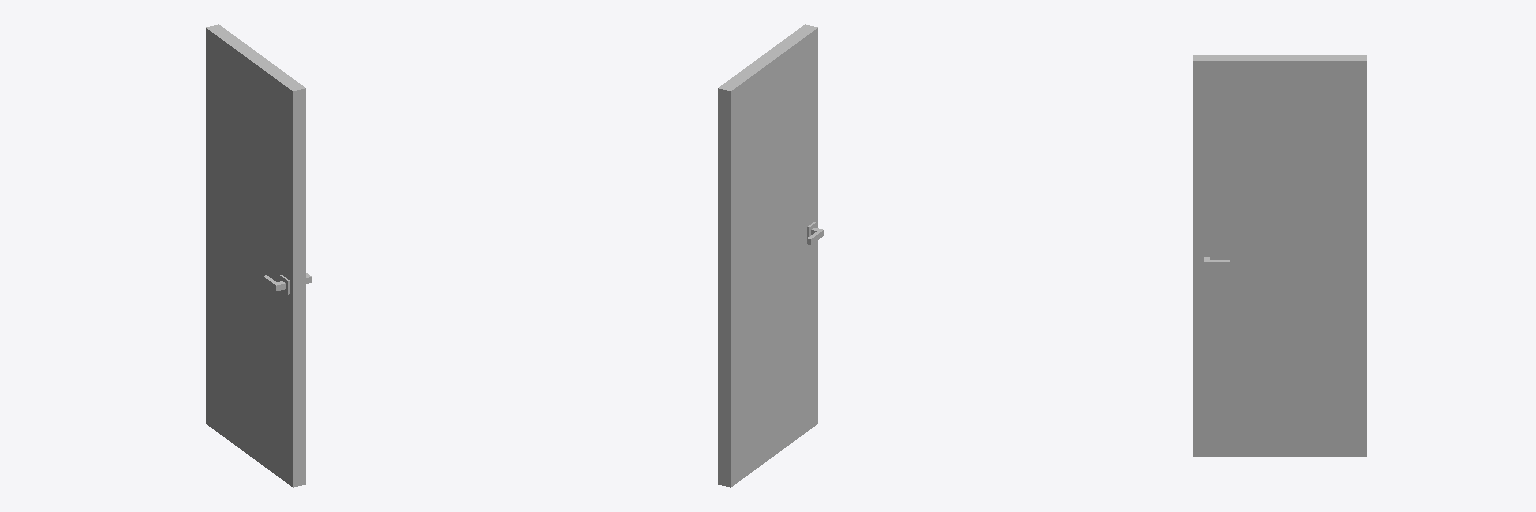
Rendered from dvery4.obj.
The picture shows the model from 3 angles: view 1: azimuth 30°, elevation 25°; view 2: azimuth 150°, elevation 25°; view 3: azimuth 270°, elevation 25°; orthographic projection.
Visible parts, largest first — view 1: Cube_door; view 2: Cube_door; view 3: Cube_door.
Boxes of the visible parts, x1=… form: Cube_door: x1=206, y1=24, x2=305, y2=487; Cube_door: x1=718, y1=24, x2=817, y2=487; Cube_door: x1=1193, y1=55, x2=1366, y2=456.
Size of the model in its own units: 0.1899 by 2 by 0.7997.